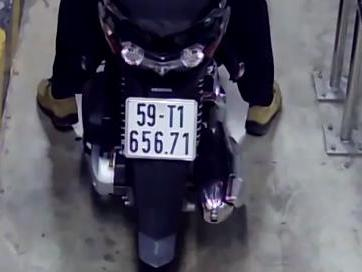num_plate: (125, 96, 199, 161)
